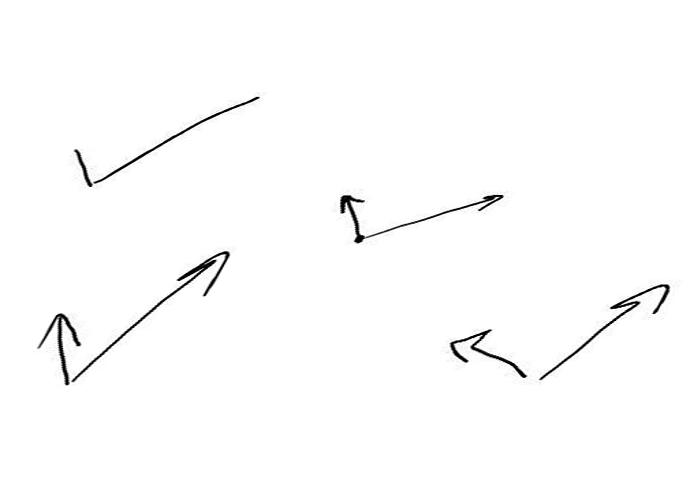arrow: (72, 251, 231, 381), (541, 284, 671, 379), (365, 192, 503, 237), (450, 326, 526, 377), (37, 310, 81, 387), (340, 193, 361, 234)
arrownohead: (94, 96, 261, 181), (69, 151, 92, 186)
